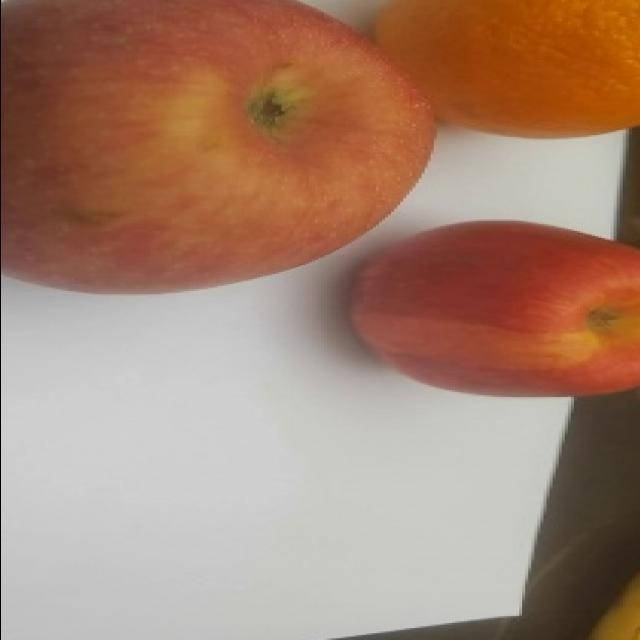Apple: (0, 0, 436, 295)
Orange: (373, 0, 639, 139)
